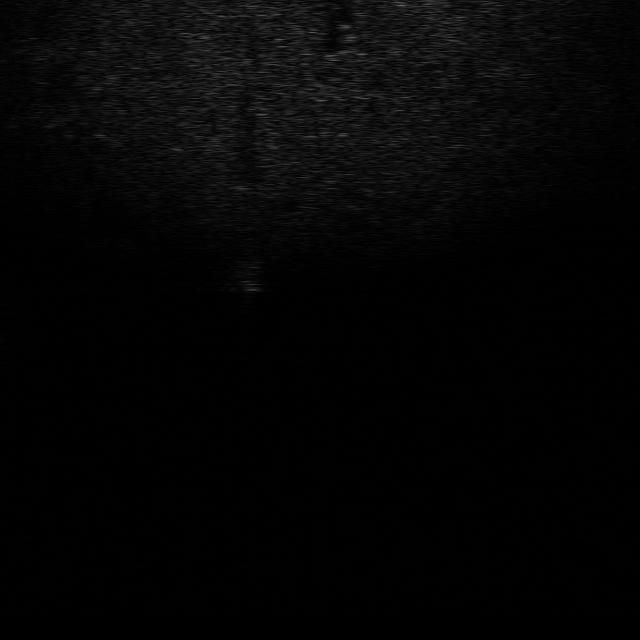human body: (226, 248, 268, 317)
